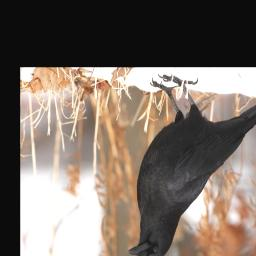Crow: (125, 73, 256, 256)
